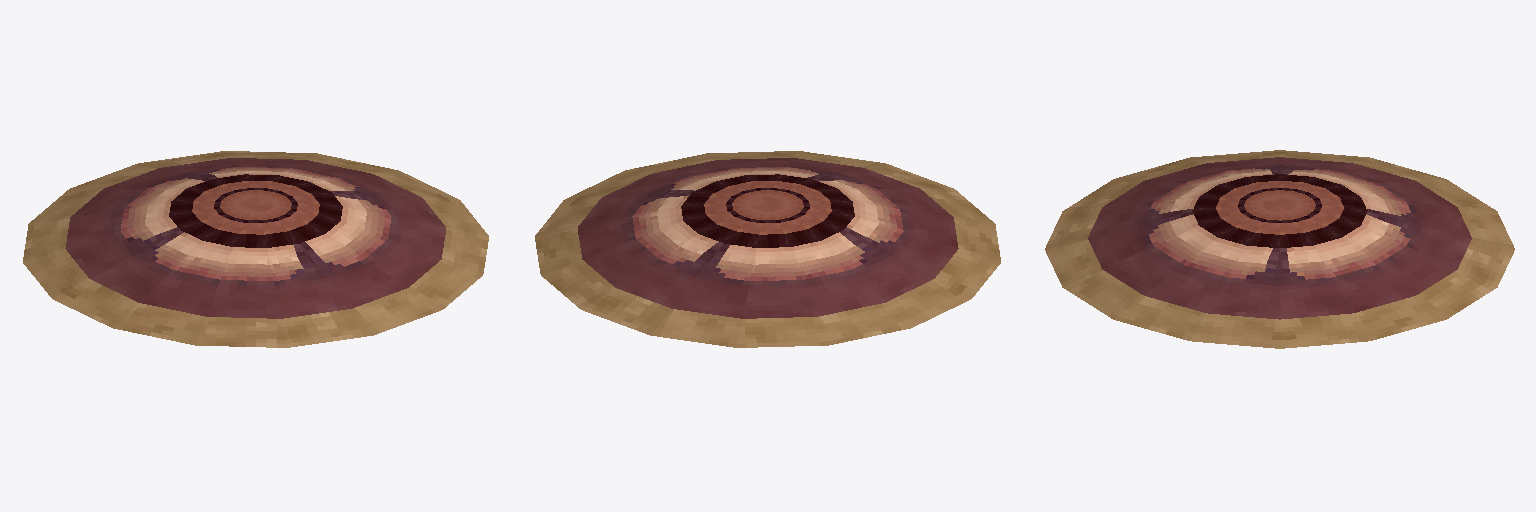
3 views of the same model, side by side, from view 1: azimuth 30°, elevation 25°; view 2: azimuth 150°, elevation 25°; view 3: azimuth 270°, elevation 25° (orthographic).
Visible parts, largest first — view 1: Cylinder.001; view 2: Cylinder.001; view 3: Cylinder.001.
Boxes of the visible parts, x1,y1,x2,y2 form: Cylinder.001: [23, 151, 488, 347]; Cylinder.001: [535, 151, 1000, 347]; Cylinder.001: [1045, 150, 1514, 348].
Size of the model in its own units: 6.57 by 1.58 by 6.57.
2 materials, 1 textured.